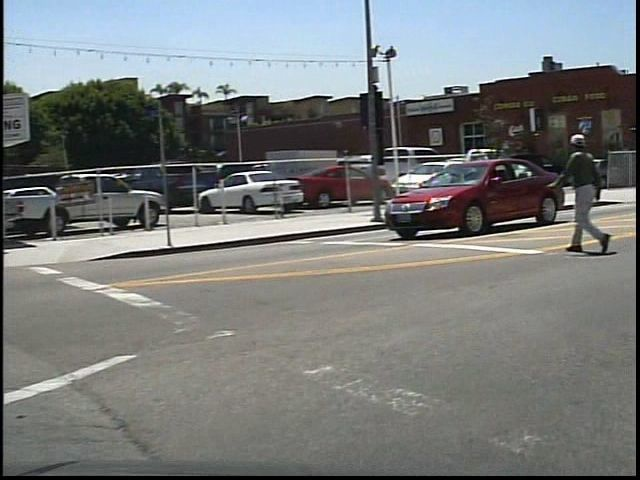person: (561, 117, 616, 260)
